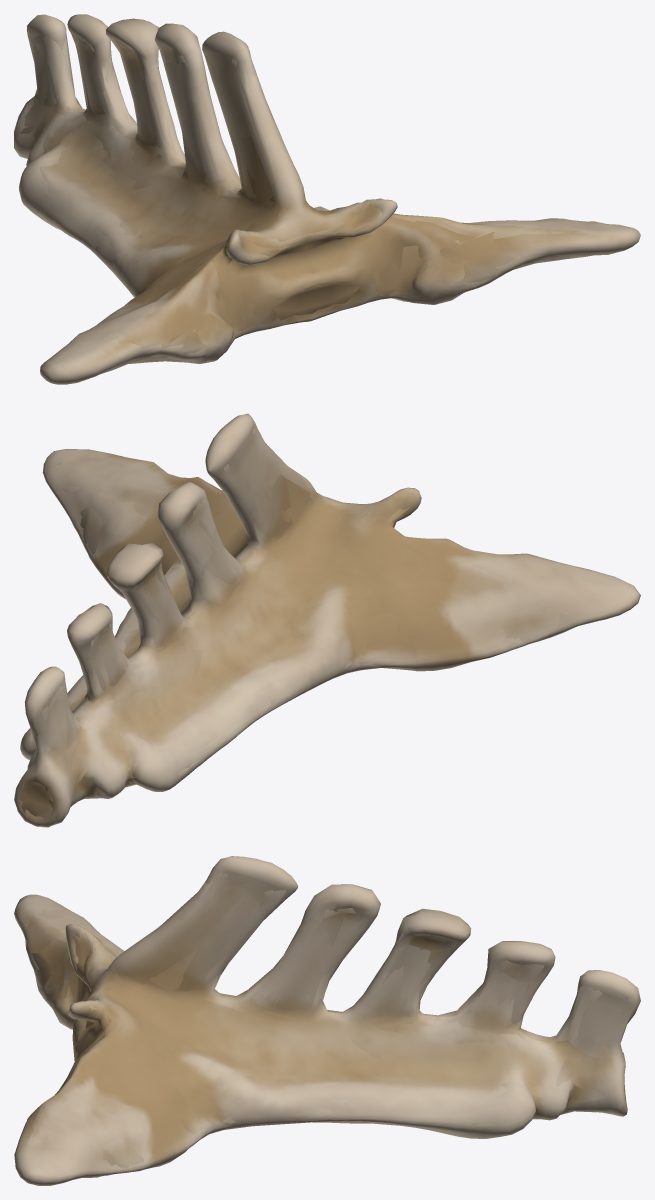
File: Sacral Vertebrae.fbx
3 views of the same model, one above another, from view 1: azimuth 30°, elevation 25°; view 2: azimuth 150°, elevation 25°; view 3: azimuth 270°, elevation 25° (orthographic). The views are drawn at different scales.
Parts seen in each view (by area): view 1: Sacral Vertebrae, Sacral Vertebrae low; view 2: Sacral Vertebrae, Sacral Vertebrae low; view 3: Sacral Vertebrae, Sacral Vertebrae low.
Boxes of the visible parts, x1=… form: Sacral Vertebrae: x1=14, y1=14, x2=640, y2=384; Sacral Vertebrae low: x1=20, y1=27, x2=606, y2=368; Sacral Vertebrae: x1=14, y1=413, x2=640, y2=827; Sacral Vertebrae low: x1=19, y1=428, x2=598, y2=819; Sacral Vertebrae: x1=14, y1=856, x2=640, y2=1185; Sacral Vertebrae low: x1=21, y1=873, x2=633, y2=1176.
Size of the model in its own units: 29.12 by 12.52 by 27.66.
Materials: 1 (1 with a texture image).
